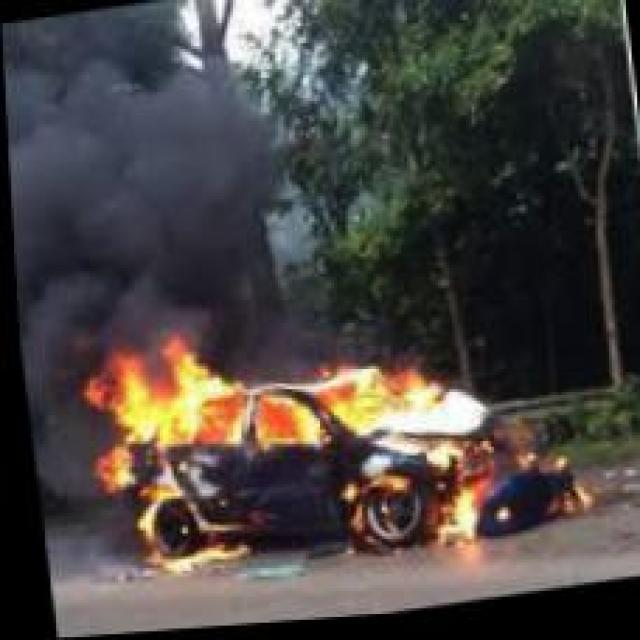Fire: (398, 401, 590, 556), (227, 332, 452, 464), (70, 427, 247, 582), (73, 328, 244, 458)
Smoke: (0, 0, 331, 360)
